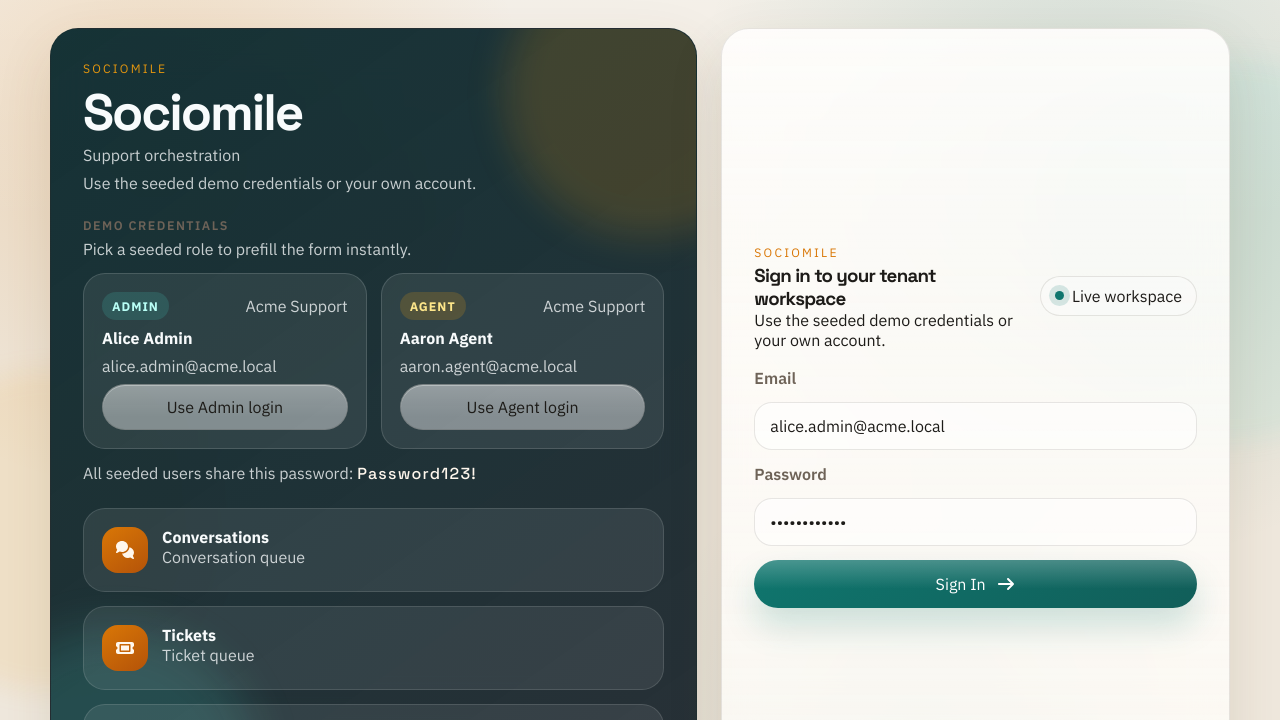
LoginPage › logs in successfully and navigates home
The width and height of the screenshot is (1280, 720).
Expected: the heading "Sign in to your tenant workspace" is shown, [754,264,936,310]
Step 1. Click the button "Sign In" → x=976, y=584, box [754,560,1197,608]
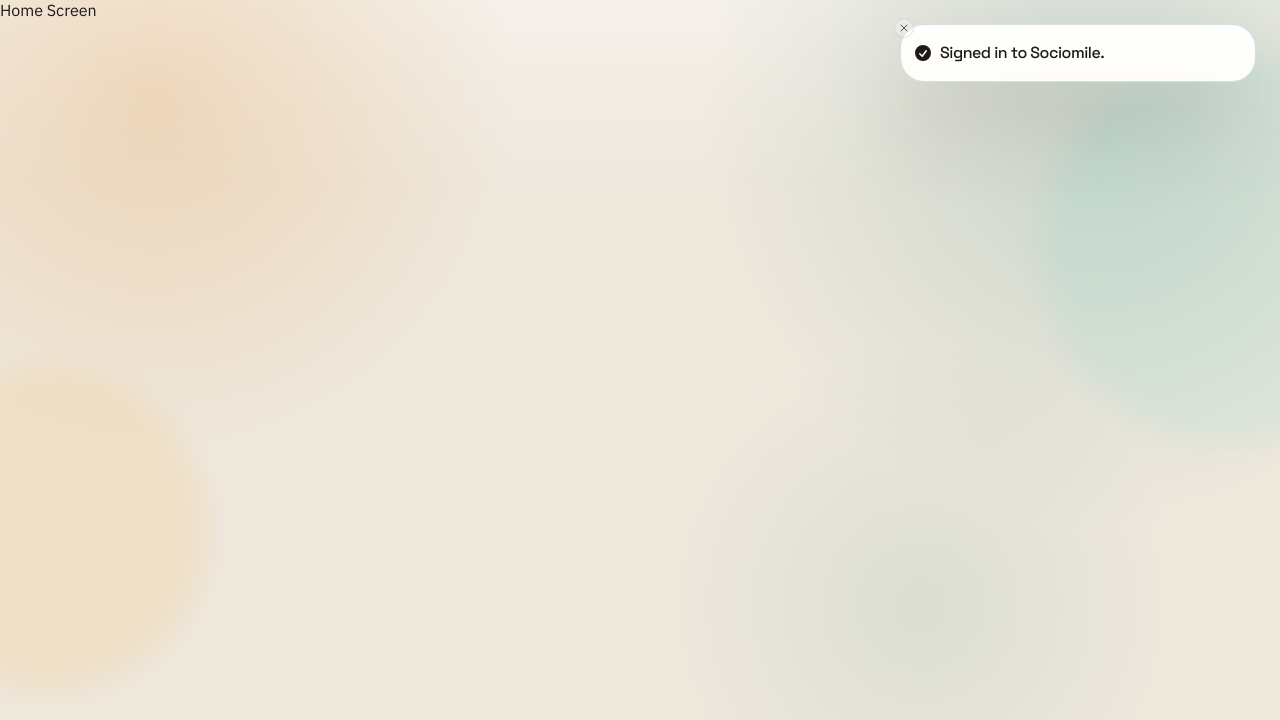
Result: the text "Home Screen" is shown at [0,0,97,20]
